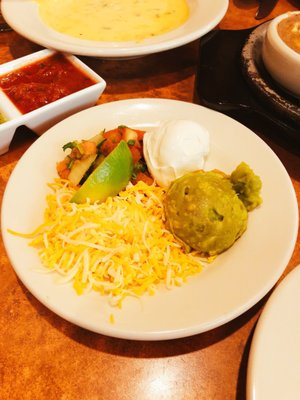sushi: (0, 98, 300, 395), (0, 49, 106, 157)
